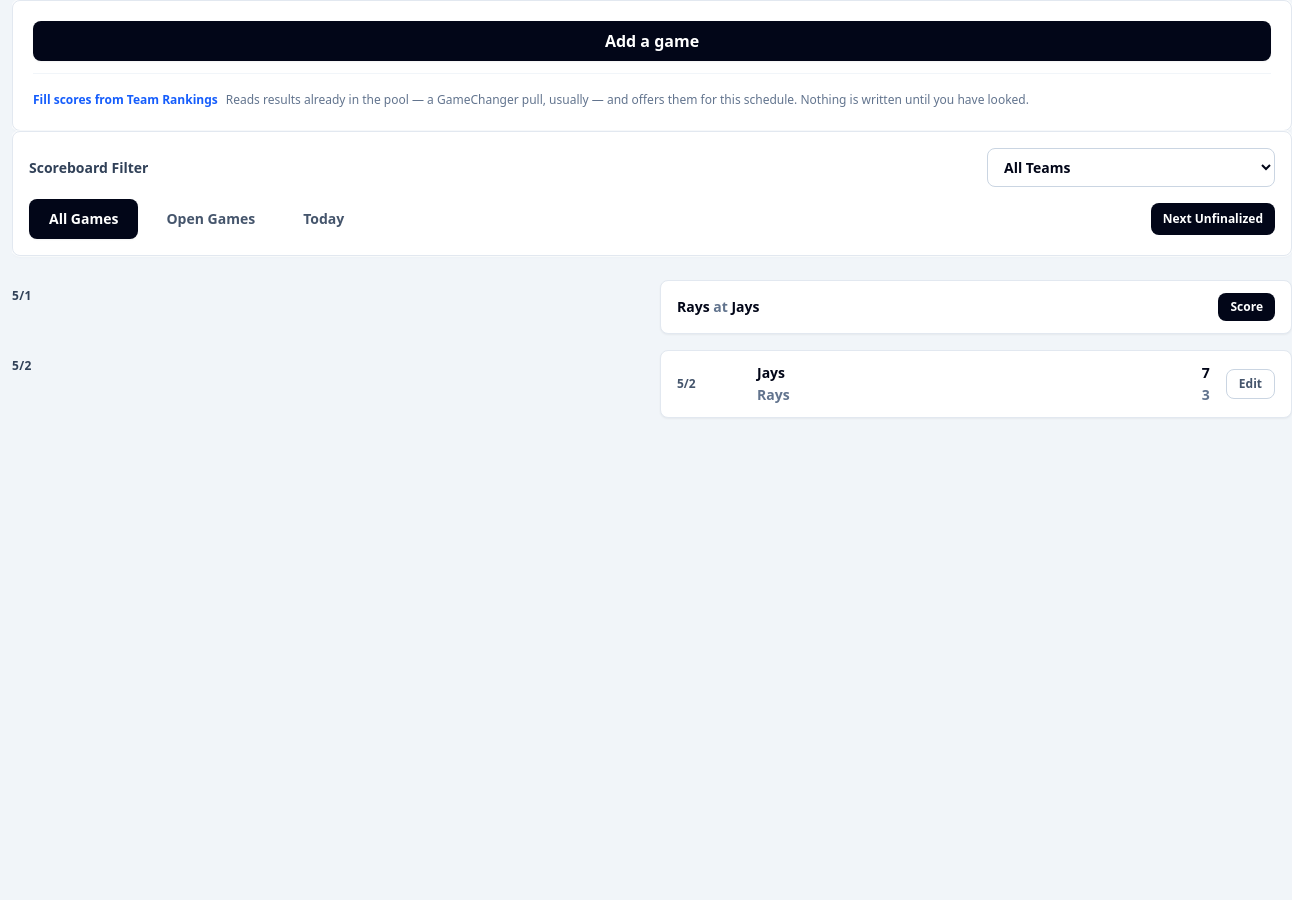
Test: the schedule on a phone › lists each game on one line under its day, and opens one to be scored
The width and height of the screenshot is (1292, 900).
Expected: the number of headings is 2, [12, 287, 32, 304]; [12, 357, 32, 374]
Expected: the button "Add Game" is not shown
Click the button with aria-label "Enter score: Rays at Jays" at (1247, 307), box [1218, 293, 1275, 321]
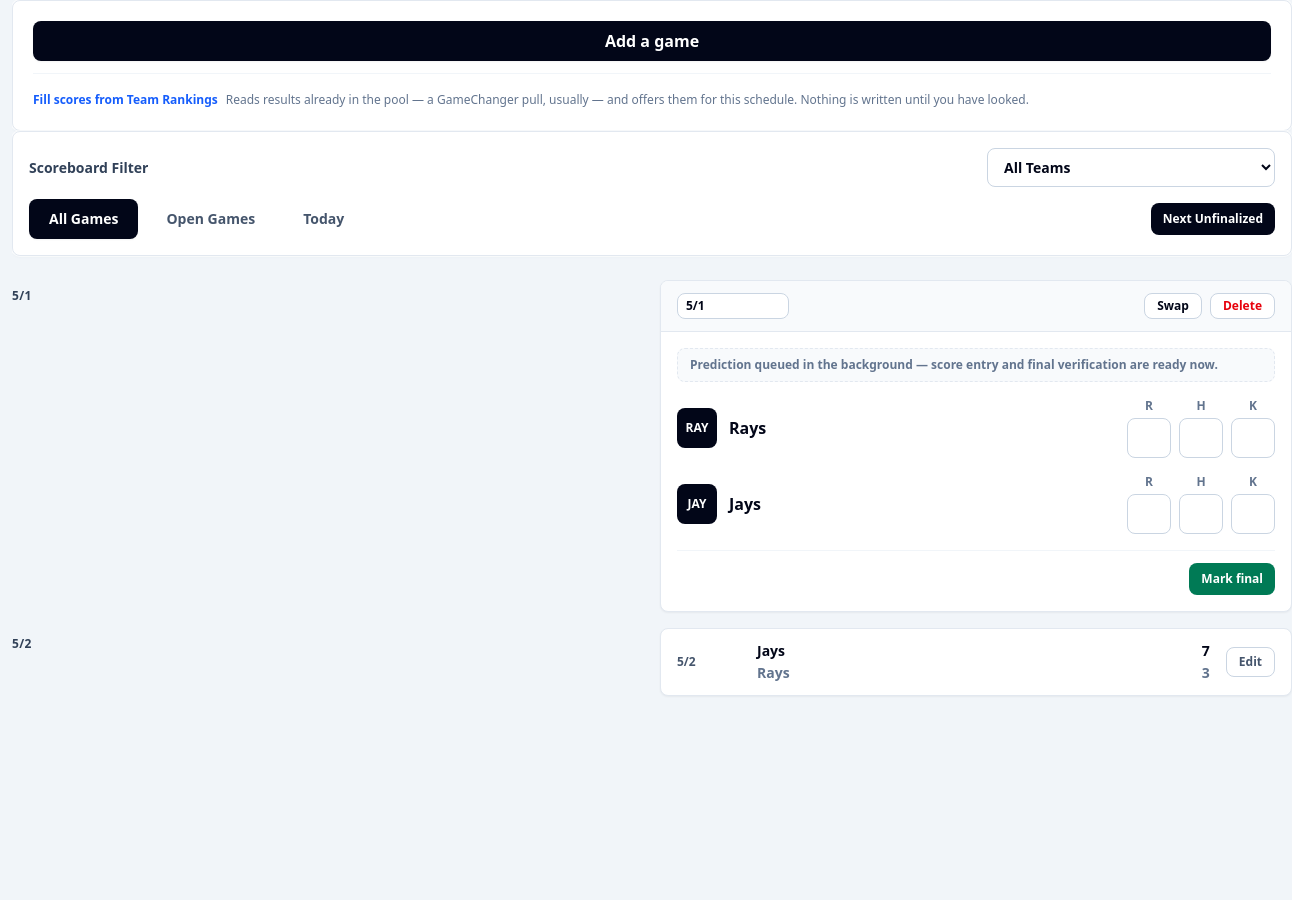
Expected: the field named "Rays Runs" is shown, [1127, 418, 1171, 458]
Expected: the button with aria-label "Mark game as final" is shown, [1189, 563, 1275, 595]
Click the button "Add a game" at (652, 41), box [33, 21, 1271, 61]
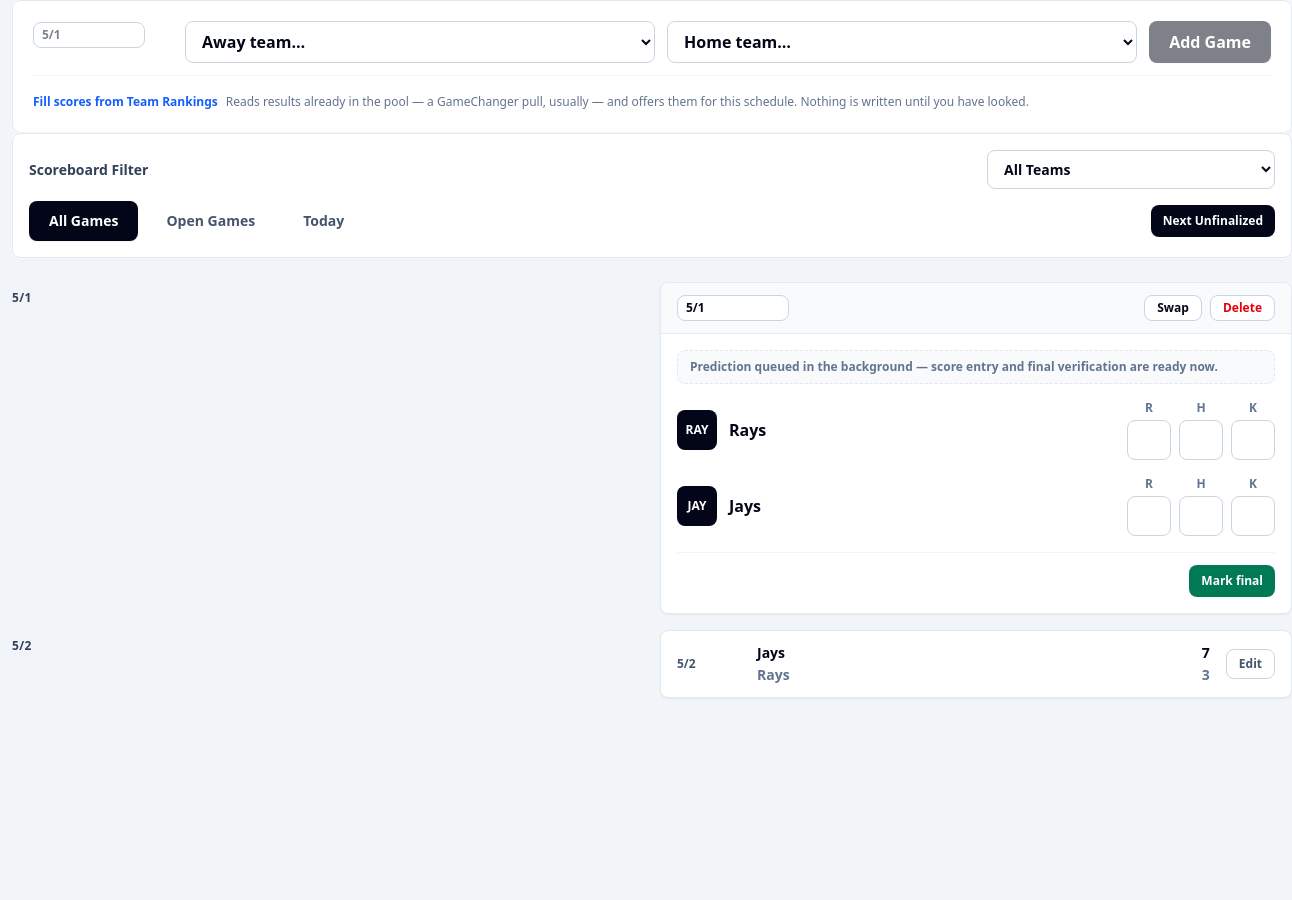
Expected: the button "Add Game" is shown, [1149, 21, 1271, 63]
